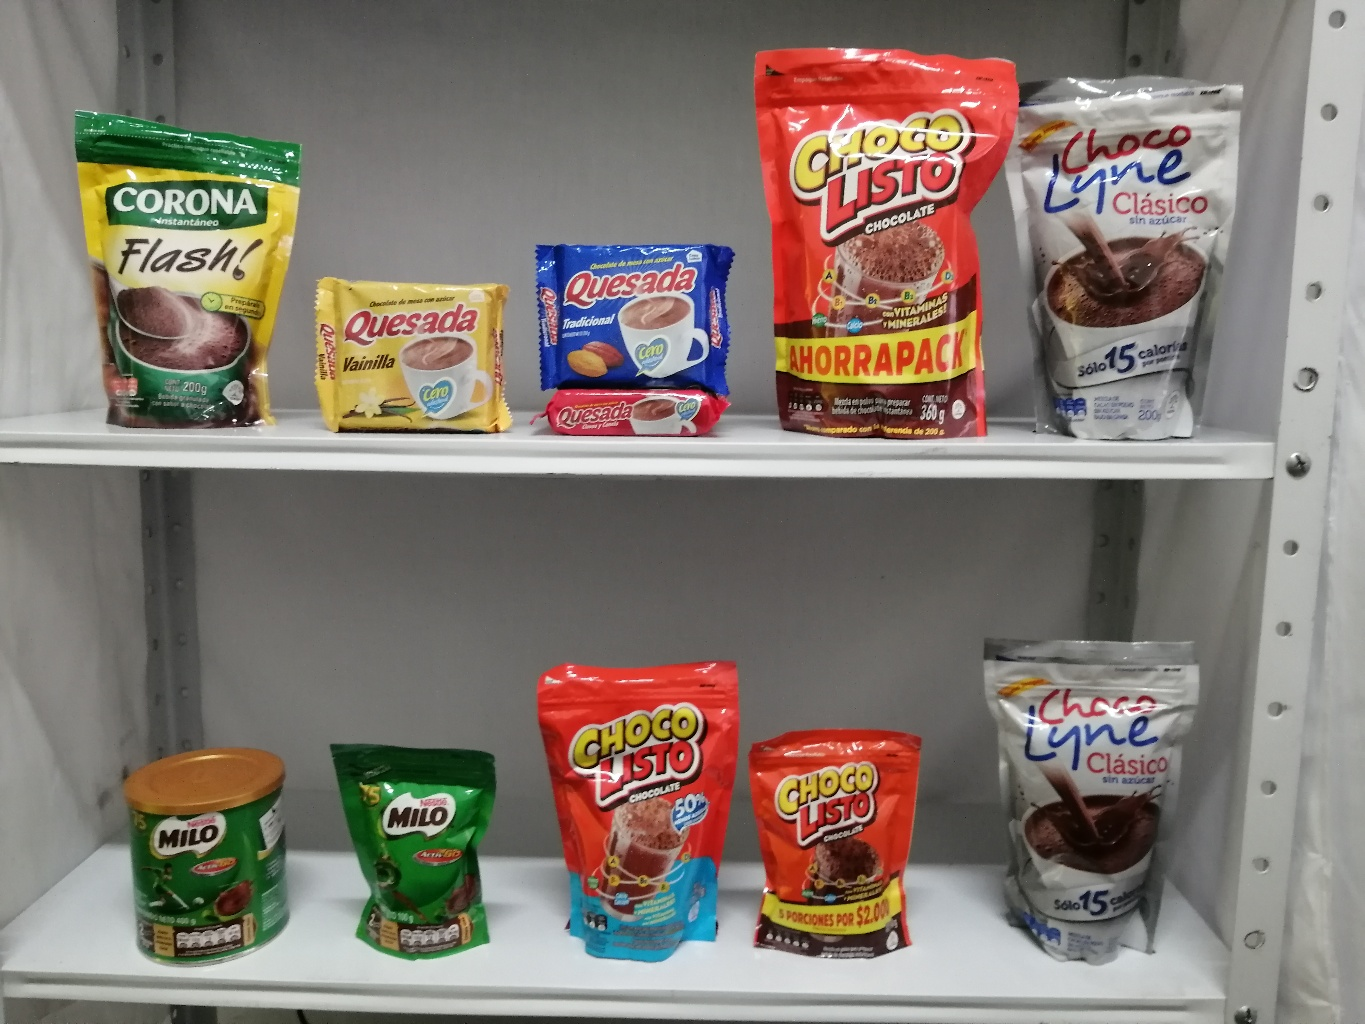COL0170103DYP36000: (741, 39, 1026, 451)
COL0170104DYP20000: (526, 651, 742, 971)
COL0170203DYP10000: (317, 727, 507, 967)
COL0170203LAT40000: (112, 719, 309, 977)
